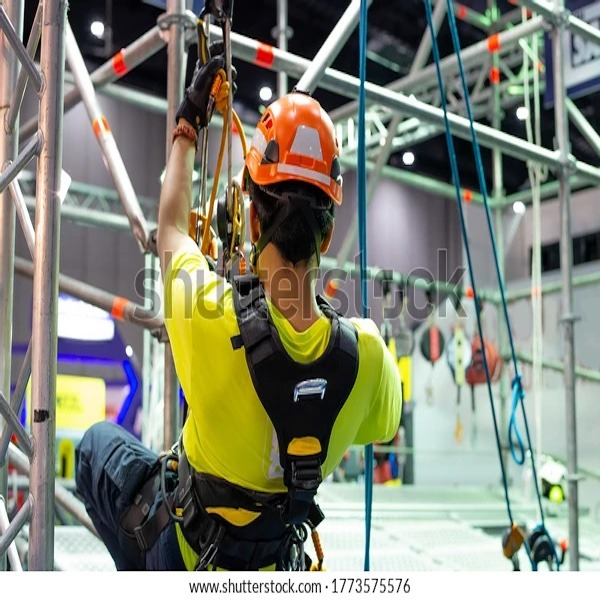helmet: (243, 91, 345, 185)
